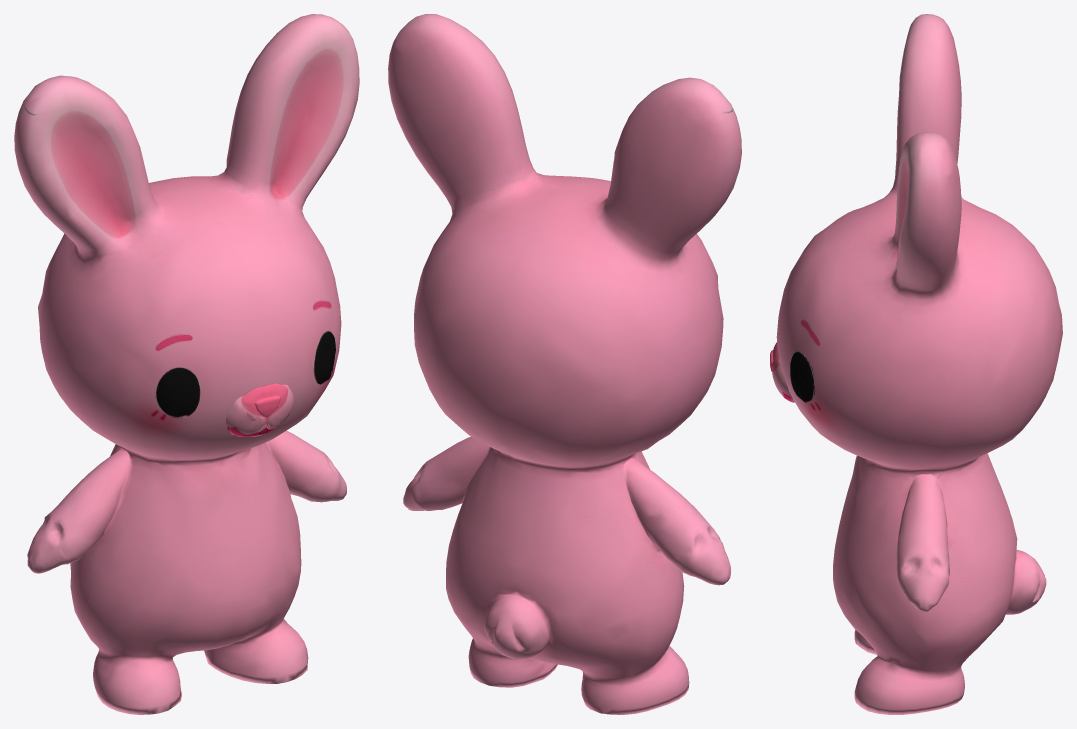
The model's file is c_malang.glb.
The picture shows the model from 3 angles, left to right: view 1: azimuth 30°, elevation 25°; view 2: azimuth 150°, elevation 25°; view 3: azimuth 270°, elevation 25°; orthographic projection. The views are drawn at different scales.
Bounding box in the file's own units: 0.5396 × 0.9512 × 0.4258.
1 material, 1 textured.
